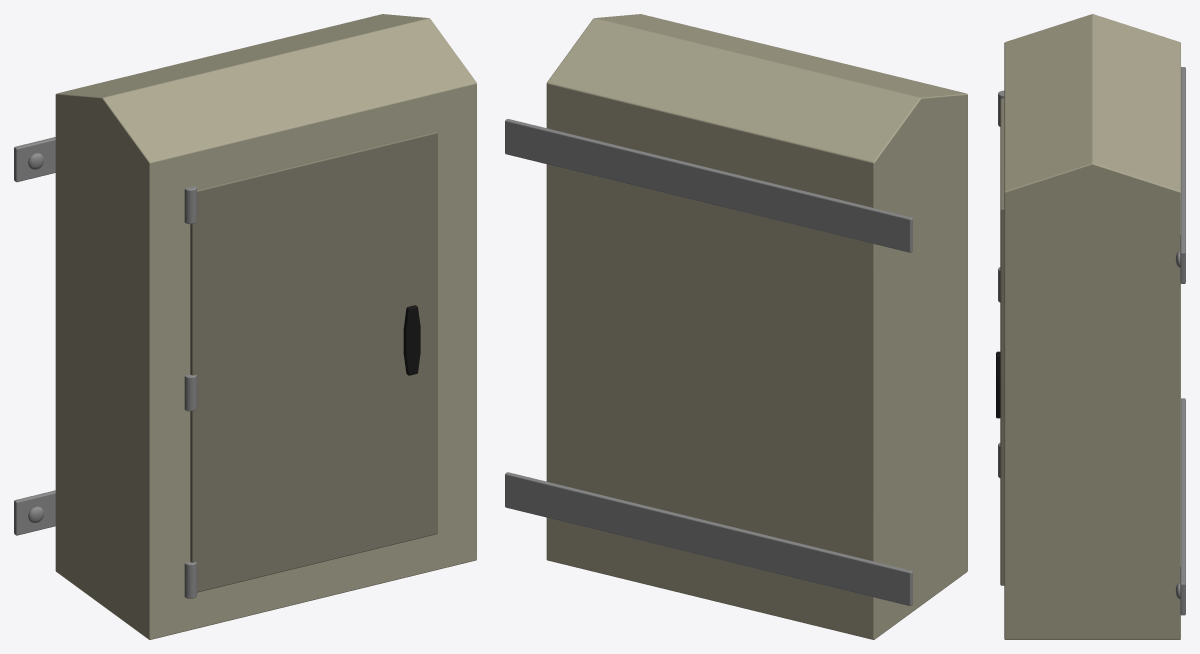
Rendered from fusebox.fbx.
3 renders of one model, left to right at view 1: azimuth 30°, elevation 25°; view 2: azimuth 150°, elevation 25°; view 3: azimuth 270°, elevation 25°, orthographic. The views are drawn at different scales.
Parts seen in each view (by area): view 1: Cube, Cube.003; view 2: Cube; view 3: Cube, Cube.003.
Boxes of the visible parts, box(x1,y1,x2,y2) form: Cube: box(14, 14, 476, 639); Cube.003: box(184, 131, 437, 598); Cube: box(505, 14, 967, 639); Cube: box(1004, 14, 1185, 639); Cube.003: box(996, 90, 1004, 585).
Size of the model in its own units: 99.91 by 119 by 43.07.
